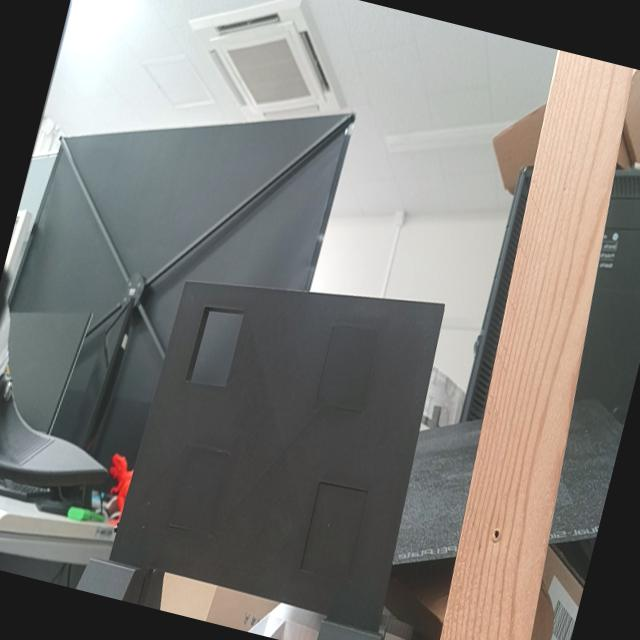Obstacle: (188, 308, 244, 390)
Wall: (107, 282, 442, 628)
